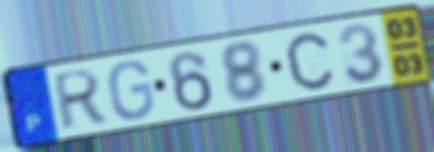3: (335, 20, 387, 86)
6: (166, 49, 215, 113)
8: (218, 38, 270, 107)
C: (283, 30, 337, 92)
G: (106, 59, 157, 123)
R: (52, 65, 108, 134)
